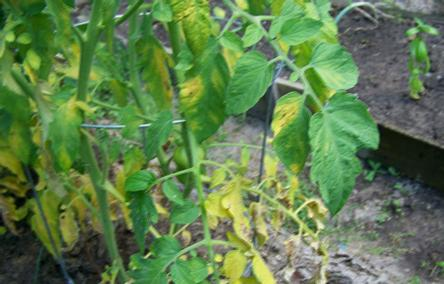Tomato leaf yellow virus: (303, 89, 381, 223), (179, 32, 242, 153), (258, 85, 317, 171), (120, 229, 188, 284), (50, 90, 88, 179), (305, 40, 357, 88)
